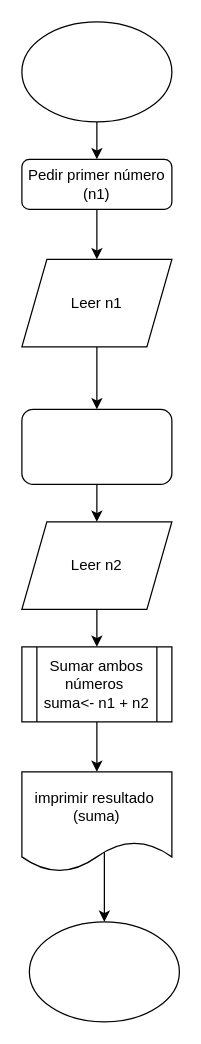
This 201x1044 diagram has some shape labels left out. The box of each missing label's shape, as (x1, y1, x2, y2) in pixels:
Fin: (28, 921, 179, 1022)
Inicio: (21, 21, 172, 122)
Pedir segundo número (n2): (21, 408, 172, 484)
